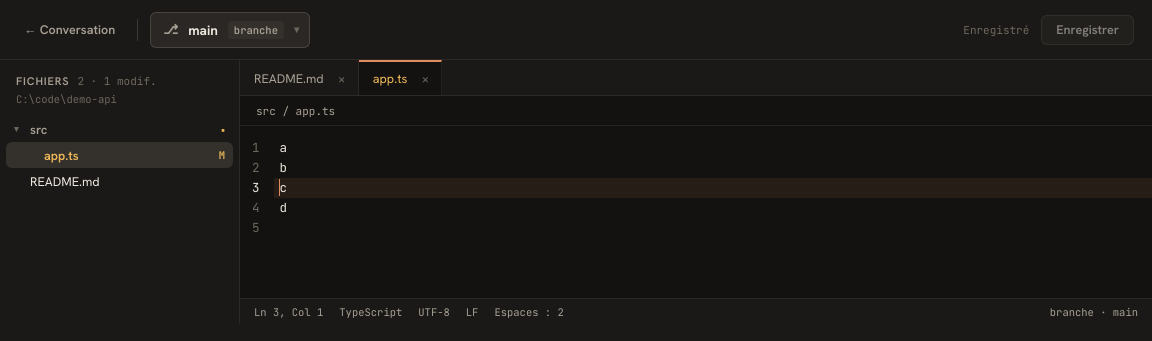
Test: EditorView › brings the line asked for into view once, not each time its tab is shown again
Expected: the text "Ln 3, Col 1" is shown, x1=254 y1=304 x2=323 y2=318
Click the tab "README.md ×" at (299, 78), box x1=240 y1=60 x2=359 y2=95
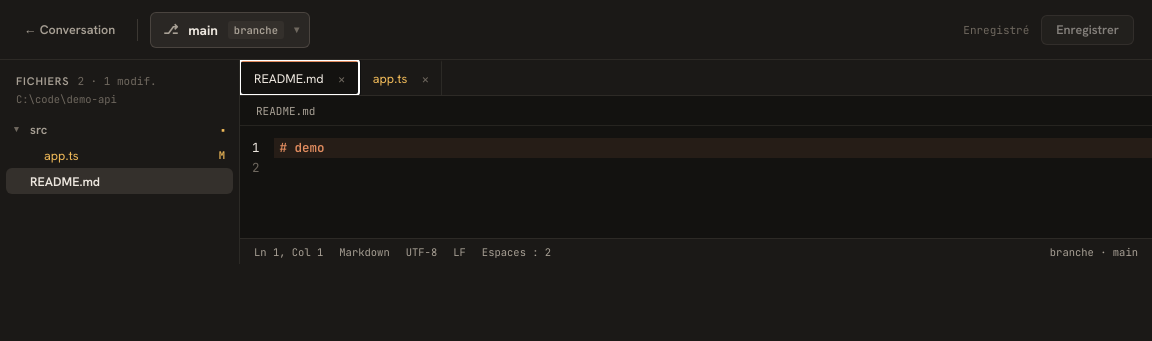
Now the text box labelled "# demo" is shown, box x1=280 y1=139 x2=324 y2=156
Click the tab "app.ts ×" at (400, 78), box x1=359 y1=60 x2=442 y2=95
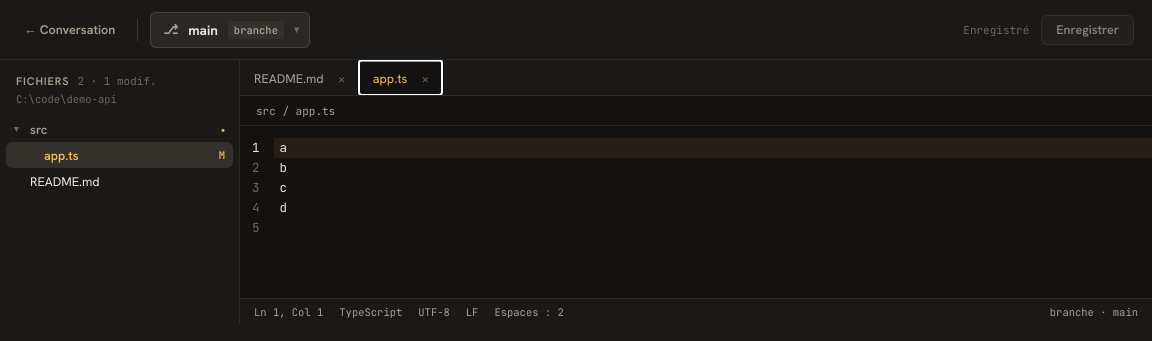
Now the text "Ln 1, Col 1" is shown, box x1=254 y1=304 x2=323 y2=318
Now the field with class "cm-content" reads "a b c d", box x1=274 y1=138 x2=1151 y2=216
